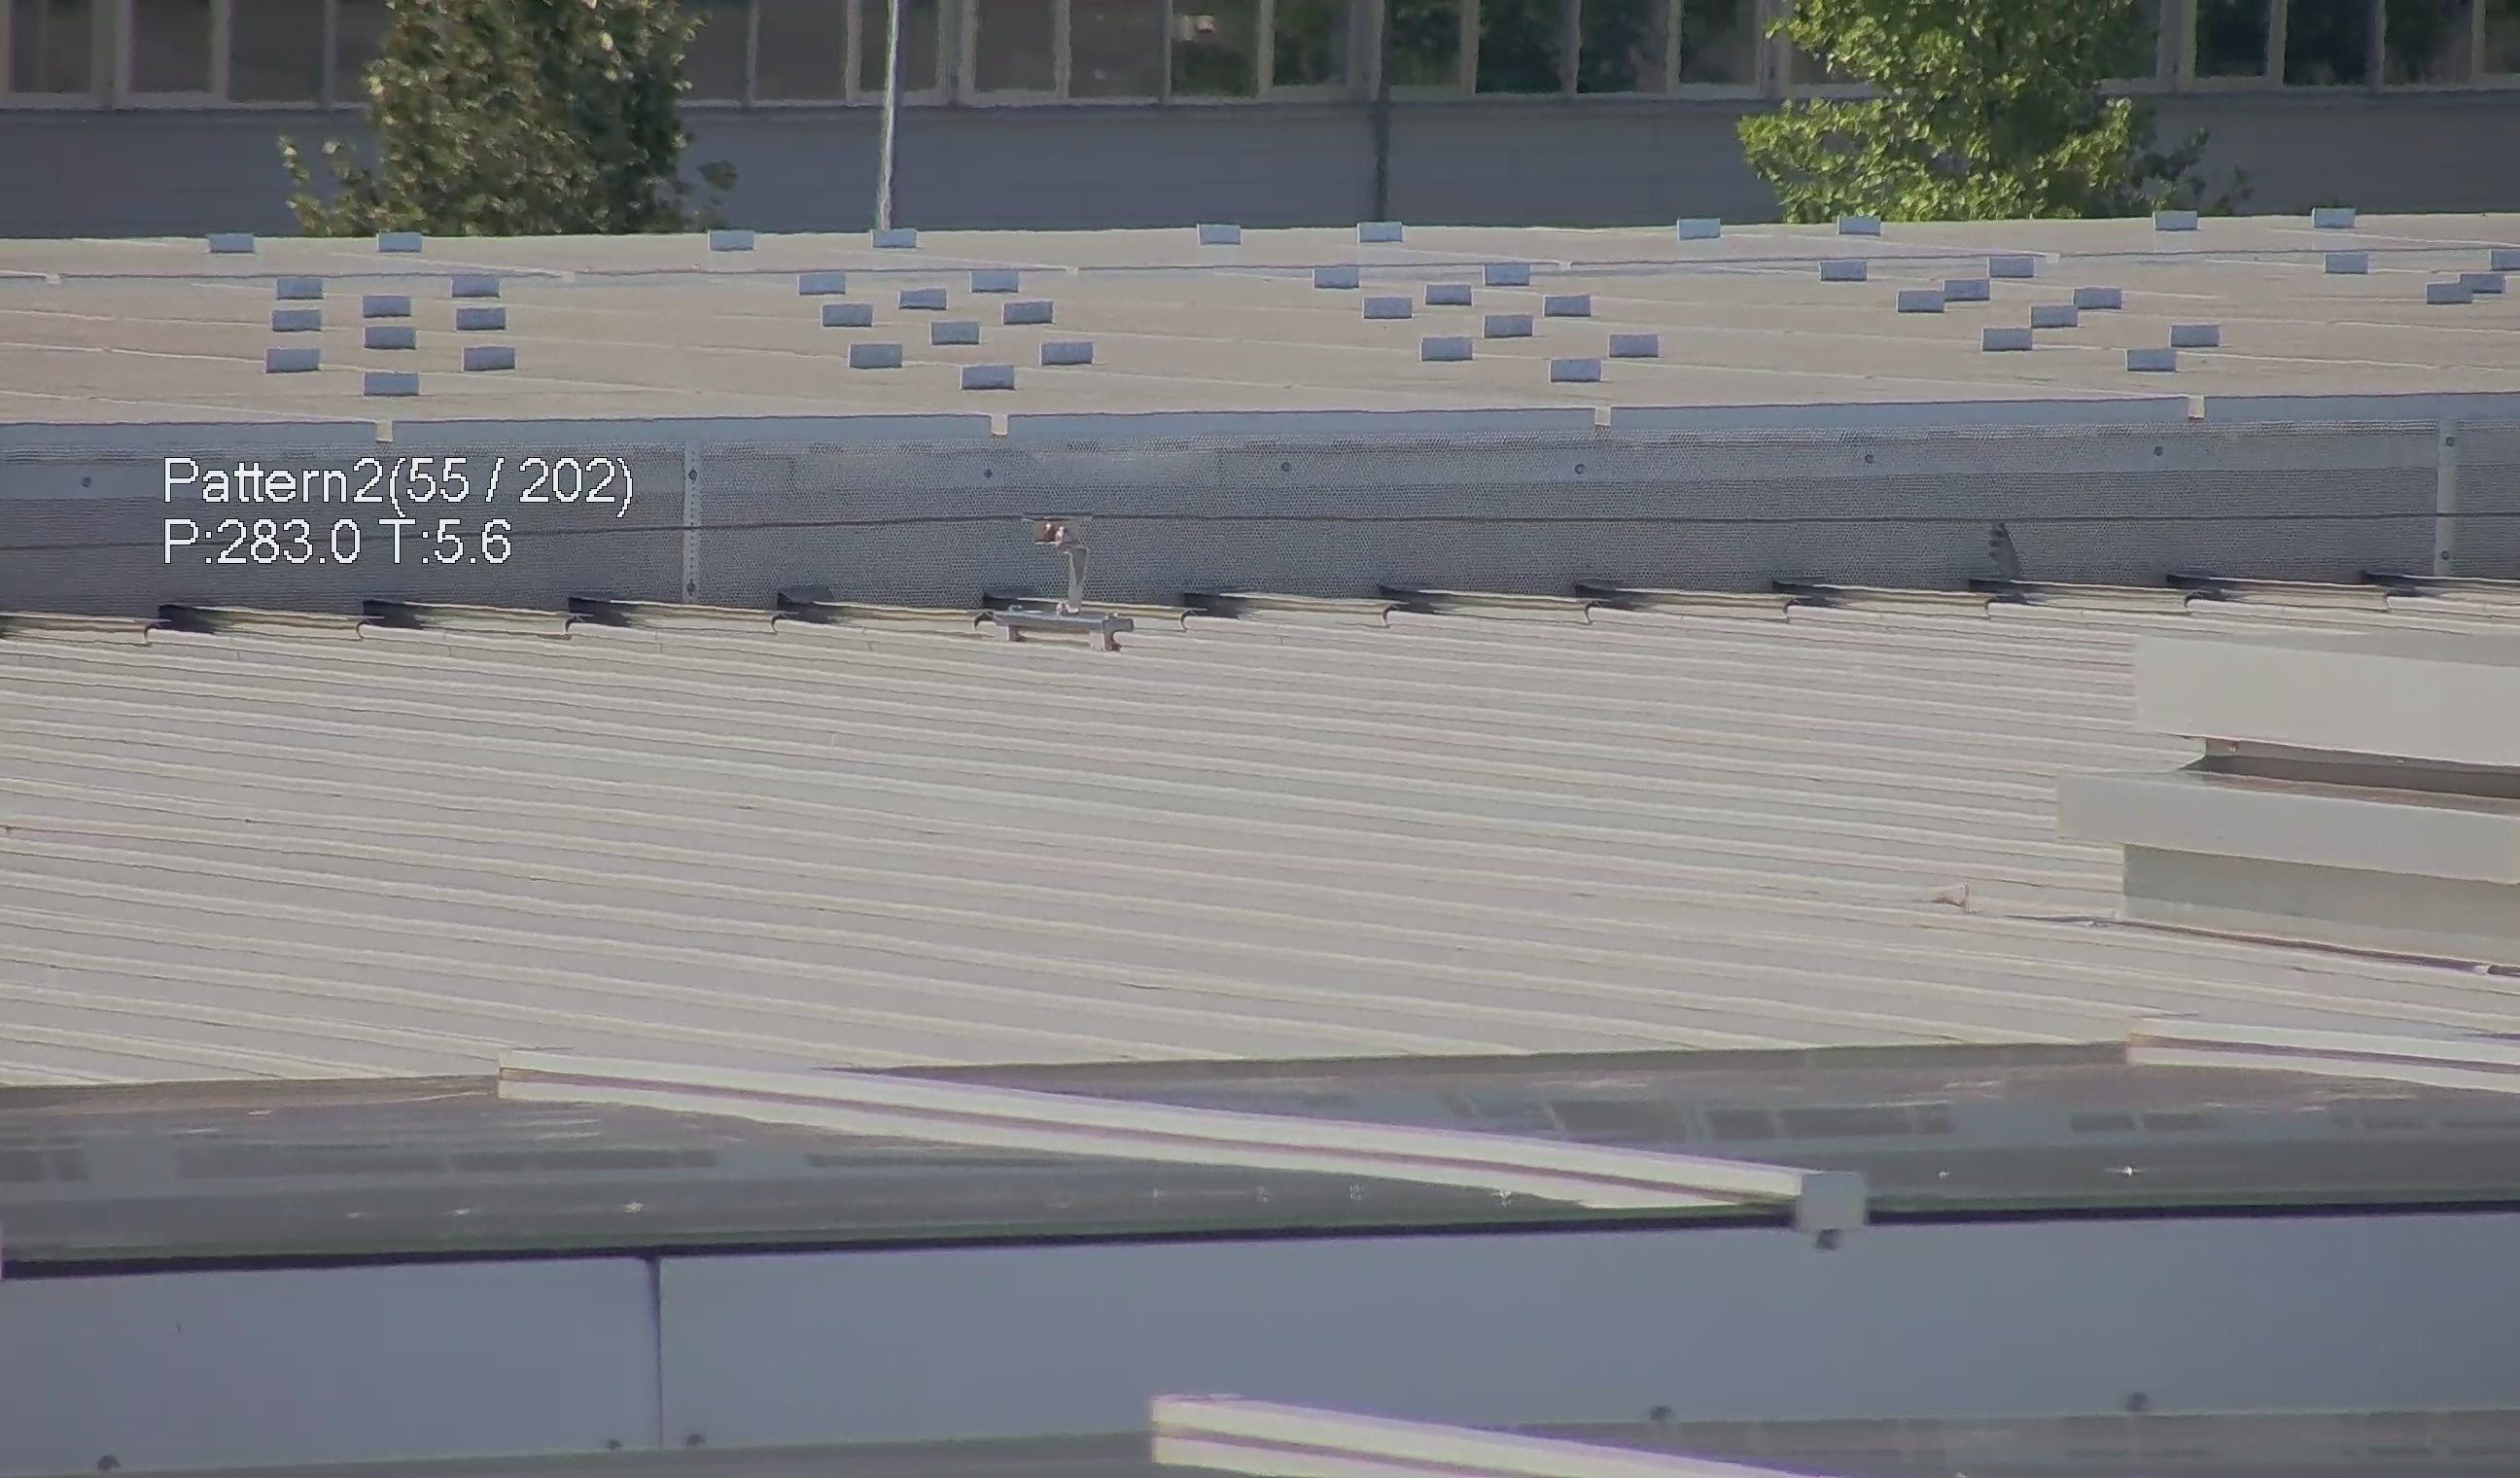Other: (1975, 500, 2061, 607)
